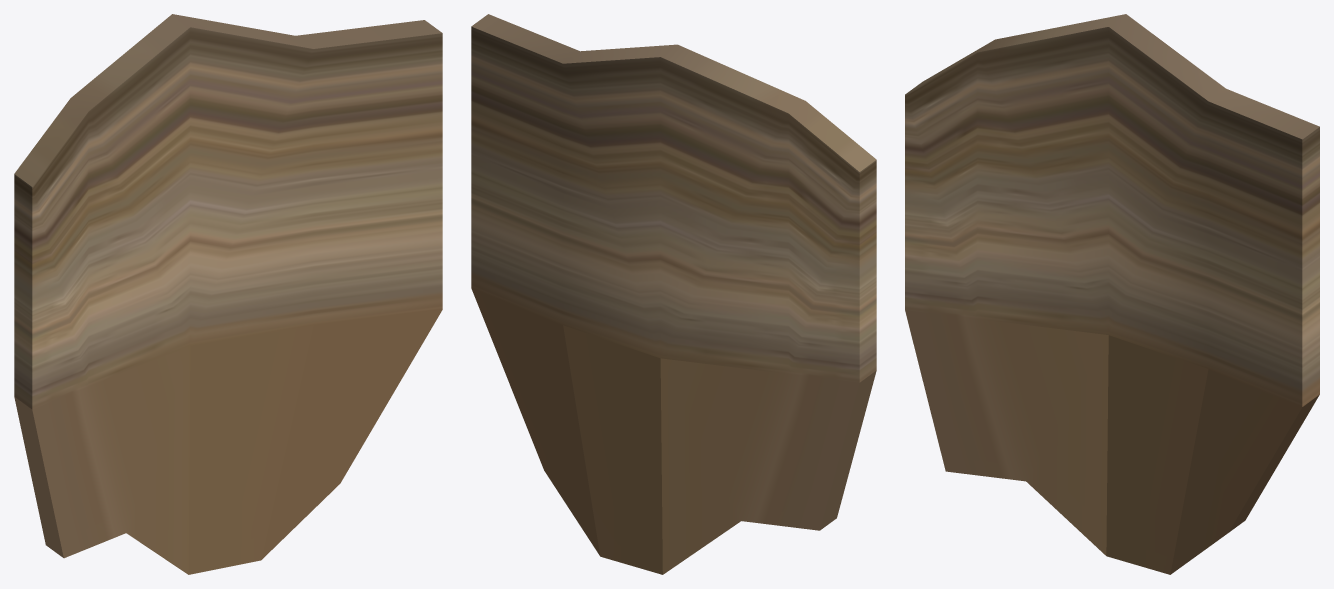
The picture shows the model from 3 angles, left to right: view 1: azimuth 30°, elevation 25°; view 2: azimuth 150°, elevation 25°; view 3: azimuth 330°, elevation 25°; orthographic projection. The views are drawn at different scales.
Parts seen in each view (by area): view 1: SM_Garou_Set_SM_Old_Shield_01_LOD0; view 2: SM_Garou_Set_SM_Old_Shield_01_LOD0; view 3: SM_Garou_Set_SM_Old_Shield_01_LOD0.
Boxes of the visible parts, x1=… form: SM_Garou_Set_SM_Old_Shield_01_LOD0: x1=14, y1=14, x2=442, y2=574; SM_Garou_Set_SM_Old_Shield_01_LOD0: x1=471, y1=14, x2=876, y2=574; SM_Garou_Set_SM_Old_Shield_01_LOD0: x1=905, y1=14, x2=1319, y2=574.
Size of the model in its own units: 0.8071 by 1.03 by 0.1505.
Materials: 1 (1 with a texture image).
